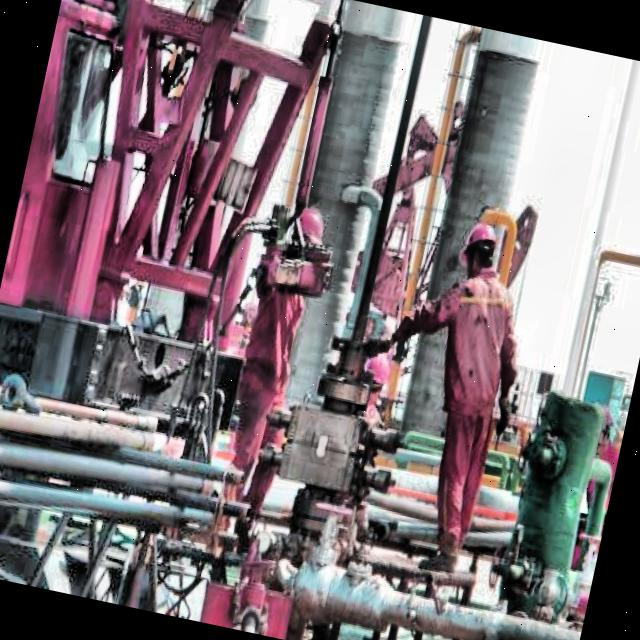helmet: (281, 202, 331, 277), (460, 208, 510, 282)
